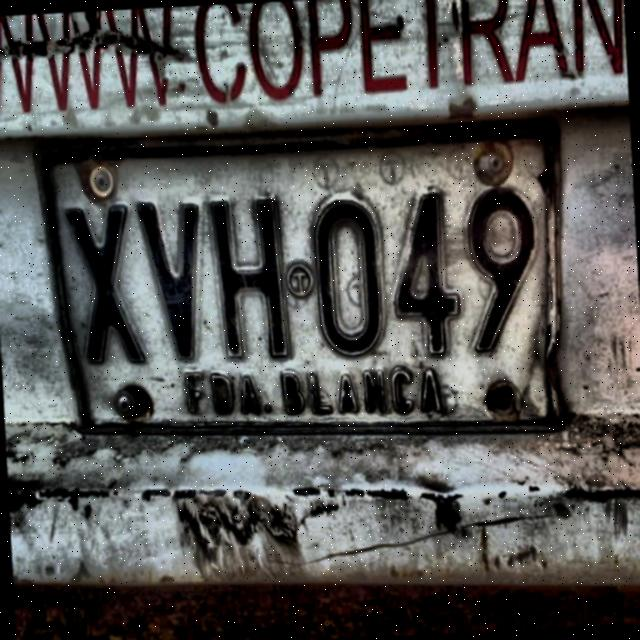0: (308, 191, 391, 365)
4: (389, 183, 467, 355)
9: (459, 177, 542, 353)
H: (209, 195, 304, 366)
V: (135, 197, 210, 365)
X: (59, 203, 150, 370)
